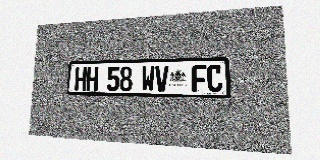5: (107, 67, 120, 91)
8: (119, 66, 133, 91)
C: (207, 65, 223, 92)
F: (192, 65, 207, 92)
H: (74, 67, 87, 91), (86, 67, 98, 91)
V: (155, 66, 169, 92)
W: (141, 66, 155, 91)
